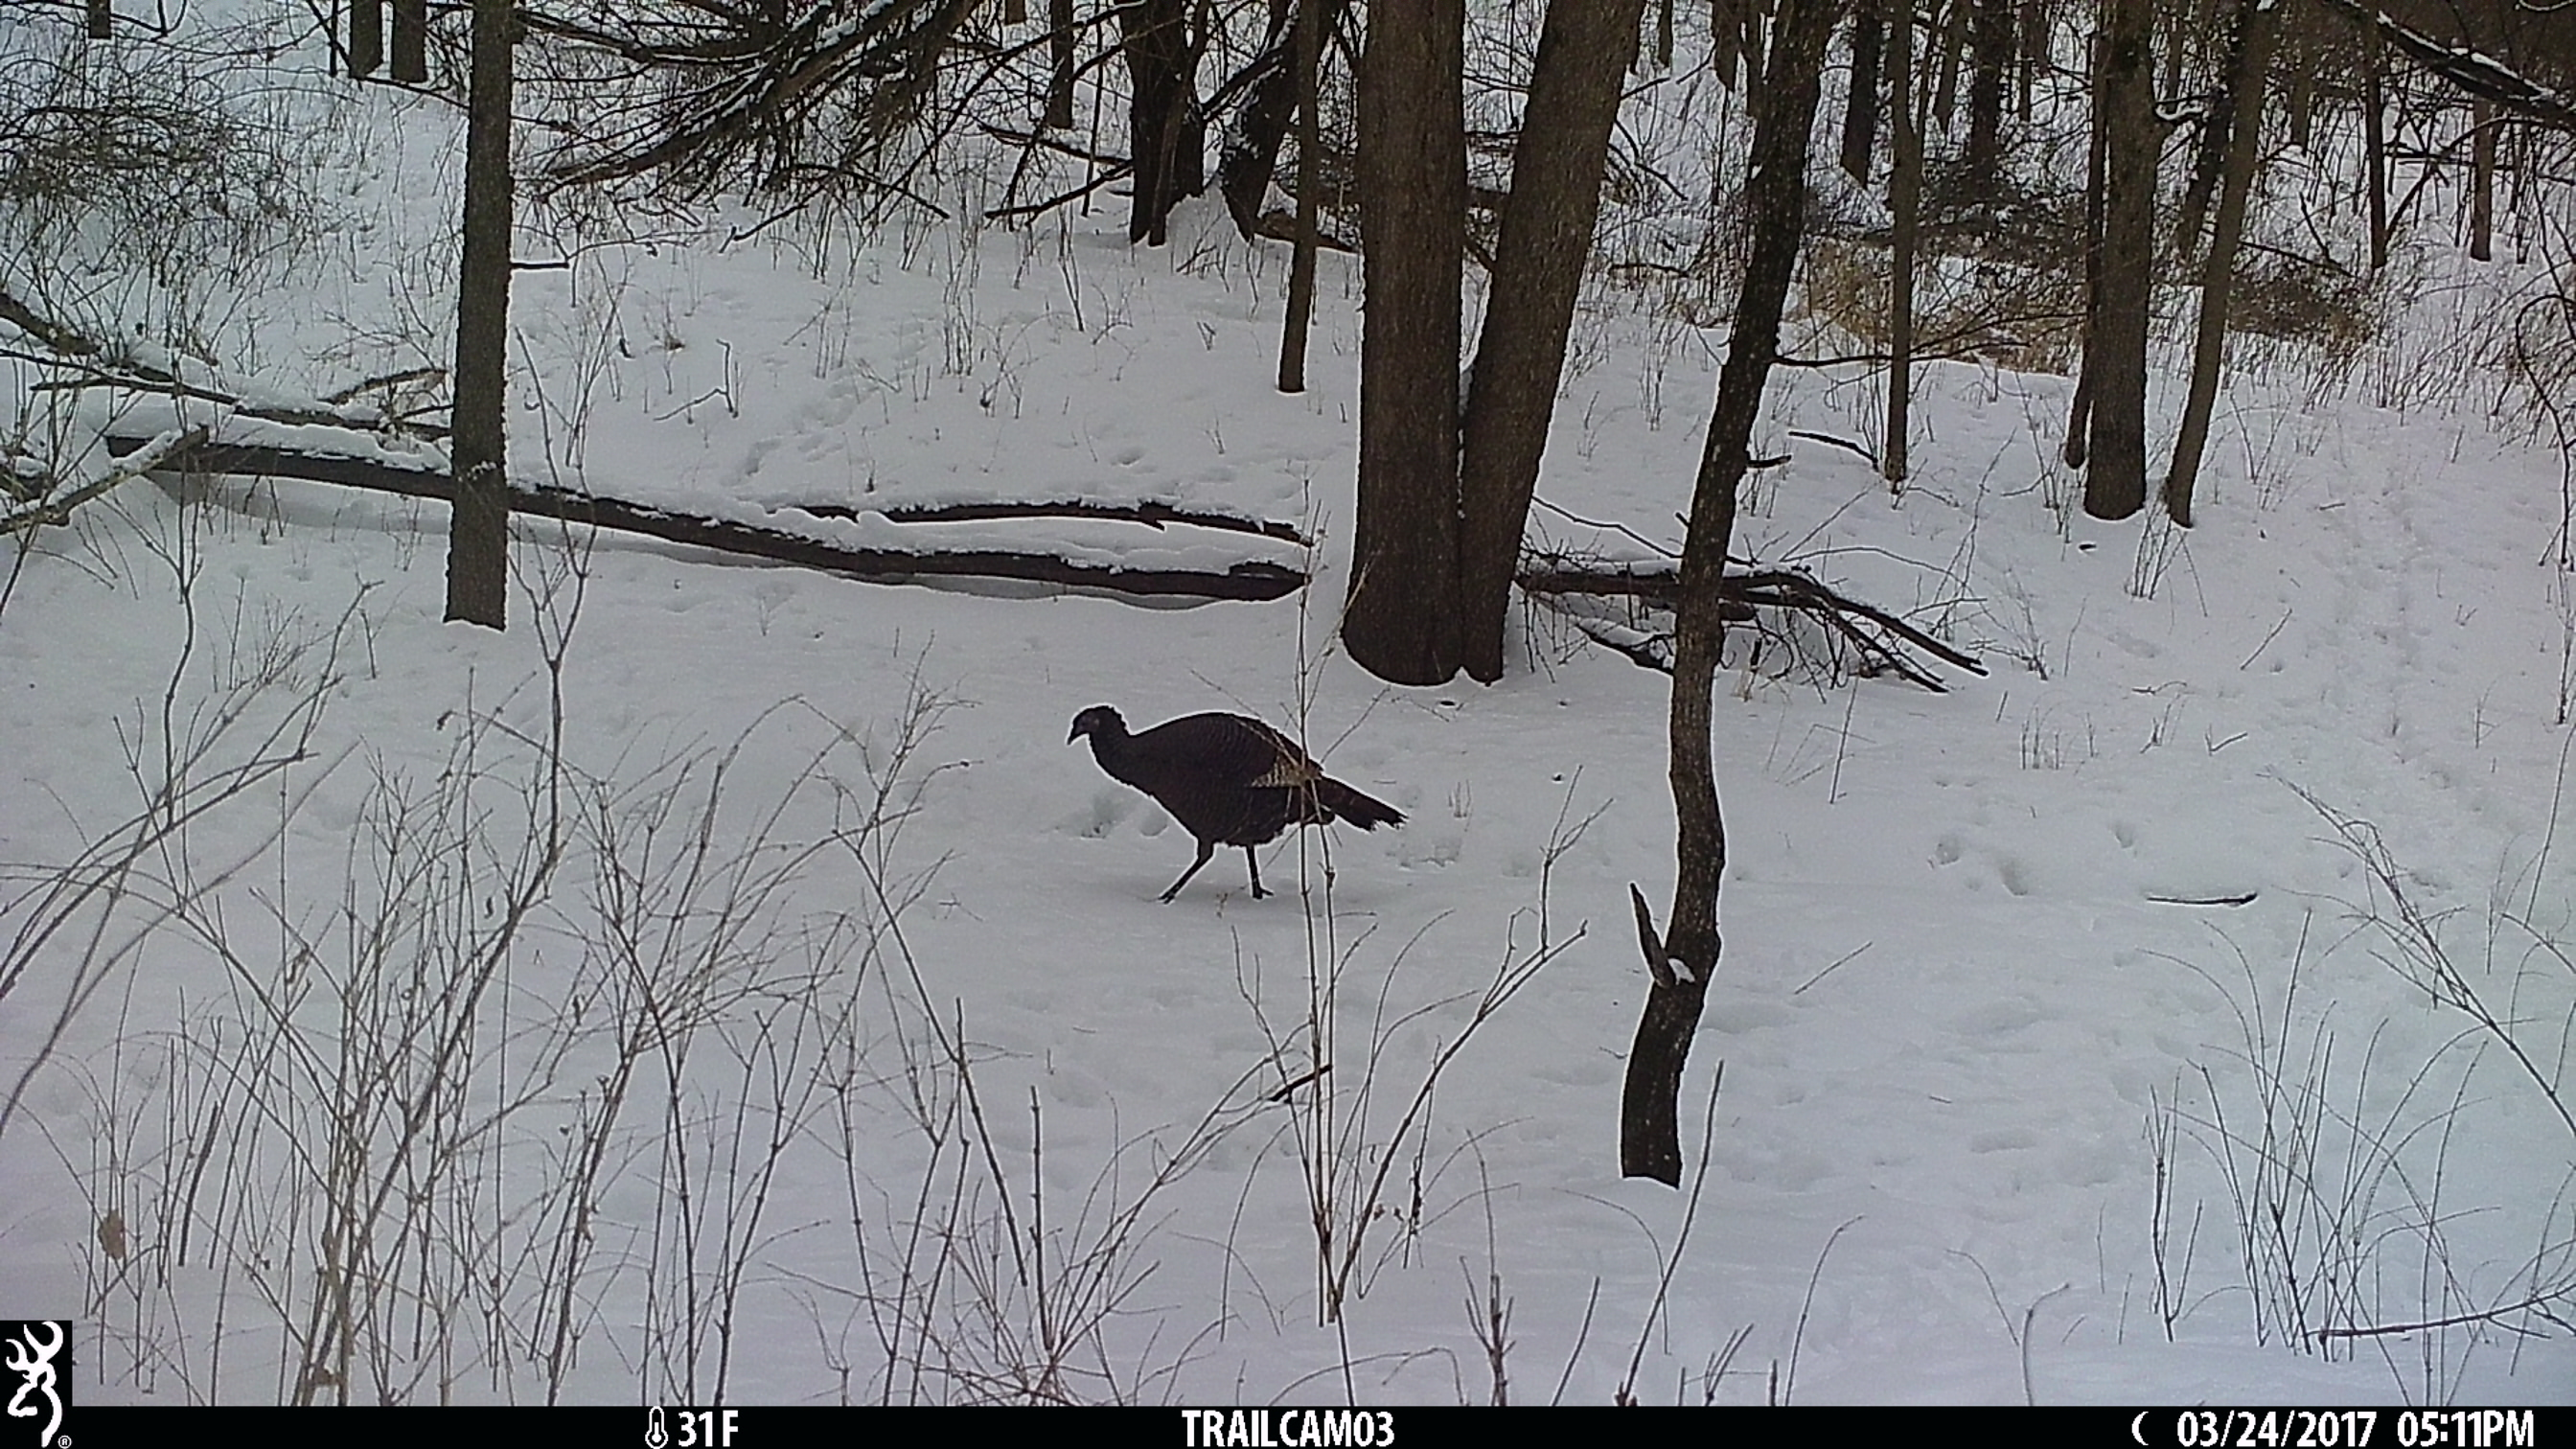Turkey: (1062, 702, 1412, 853)
